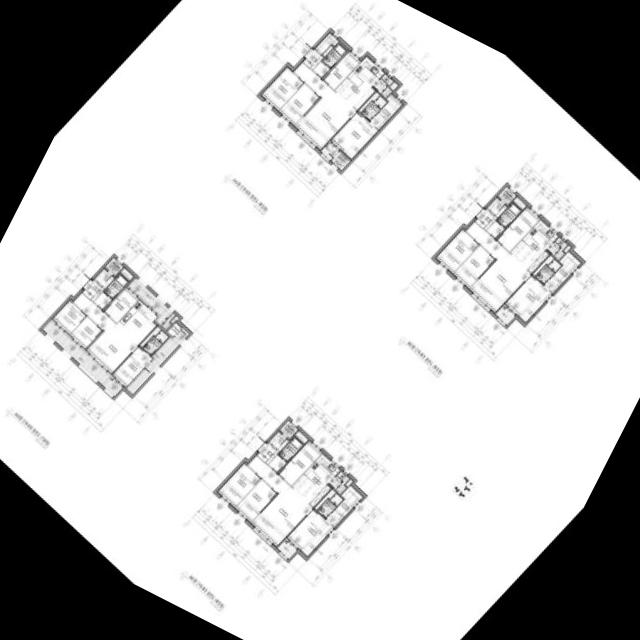background: (0, 0, 640, 640)
space_balconi: (42, 320, 122, 396), (126, 328, 189, 394), (128, 278, 175, 330), (373, 74, 393, 98), (329, 471, 349, 494), (547, 237, 567, 260), (277, 540, 296, 559), (495, 306, 514, 325), (320, 142, 338, 160)
space_bedroom: (287, 509, 343, 556), (505, 275, 561, 322), (331, 112, 377, 159), (436, 229, 479, 273), (218, 463, 260, 507), (261, 67, 303, 110), (453, 245, 494, 288), (235, 479, 276, 521), (279, 83, 319, 125), (112, 346, 152, 387), (52, 300, 86, 334), (70, 317, 101, 349)
space_dressroom: (335, 485, 362, 517), (553, 251, 580, 283), (379, 94, 401, 119)
space_front: (82, 279, 104, 301), (256, 442, 278, 464), (474, 208, 496, 230), (302, 49, 323, 69)
space_kitchen: (334, 56, 384, 109), (509, 220, 558, 273), (291, 454, 339, 507), (116, 300, 157, 344)
space_living_room: (247, 455, 312, 546), (465, 221, 530, 312), (293, 62, 356, 149), (73, 292, 137, 373)
space_other: (278, 441, 321, 485), (496, 207, 539, 251), (323, 51, 360, 89), (104, 287, 138, 323), (315, 33, 338, 54), (140, 326, 160, 347), (314, 489, 335, 509), (358, 92, 379, 112), (532, 255, 553, 275), (94, 269, 114, 288), (269, 432, 288, 451), (487, 198, 506, 217), (369, 112, 387, 130), (94, 292, 111, 310), (486, 221, 504, 238), (268, 455, 285, 472), (313, 61, 329, 78), (167, 322, 180, 336), (120, 268, 133, 280), (295, 431, 307, 443), (513, 197, 525, 209), (322, 45, 333, 56), (389, 82, 397, 90), (170, 316, 179, 323), (345, 479, 352, 486), (563, 245, 570, 252)
space_outdoor_room: (331, 151, 350, 170), (105, 257, 123, 276), (279, 420, 298, 438), (497, 186, 516, 204)
space_toilet: (103, 273, 128, 299), (142, 330, 168, 355), (535, 259, 561, 284), (317, 493, 342, 518), (496, 203, 521, 228), (278, 437, 302, 462), (361, 96, 386, 120), (322, 43, 346, 68)
